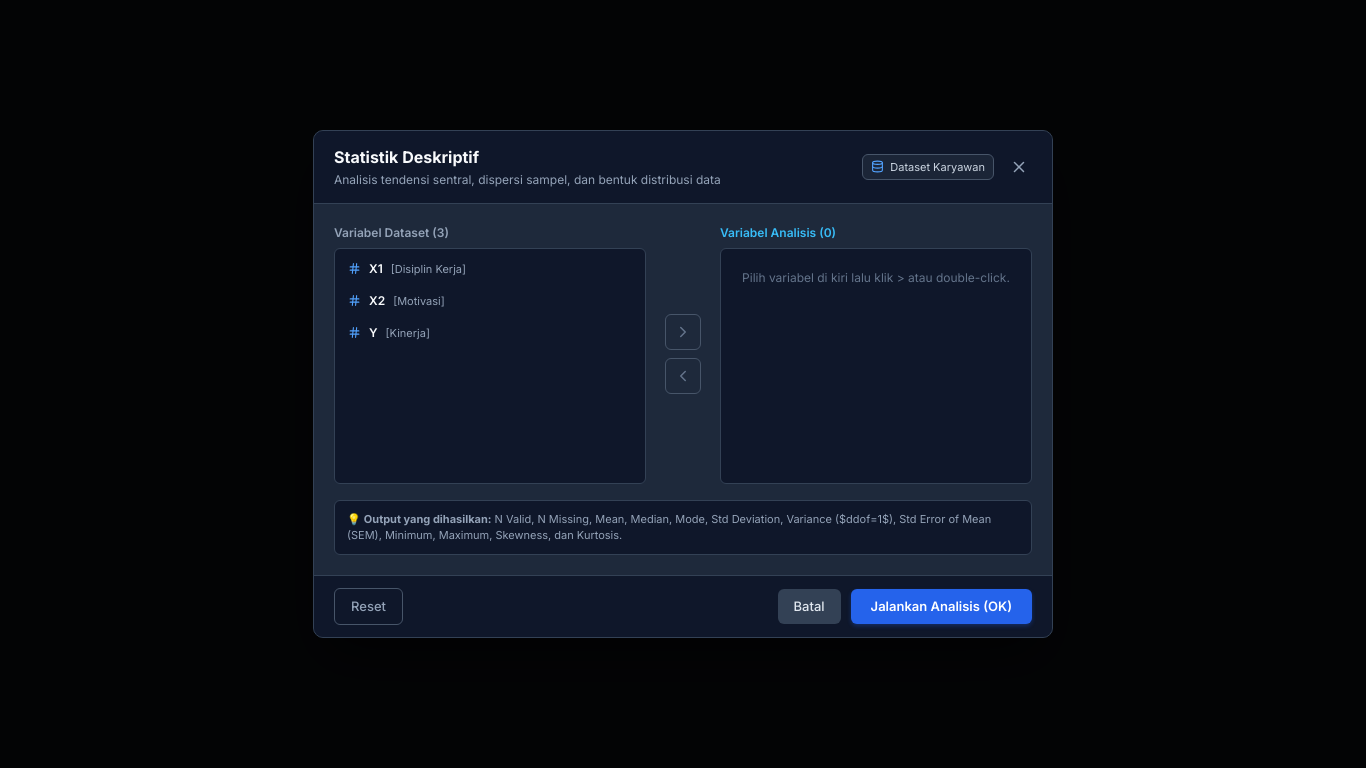
Scenario: DescriptiveDialog Component › memindahkan variabel ke target saat di-double-click dan dapat direset
Note: Double click X1 to transfer to target
Double-click the text "X1".
double_click(376, 269)  # box x1=369 y1=260 x2=383 y2=278
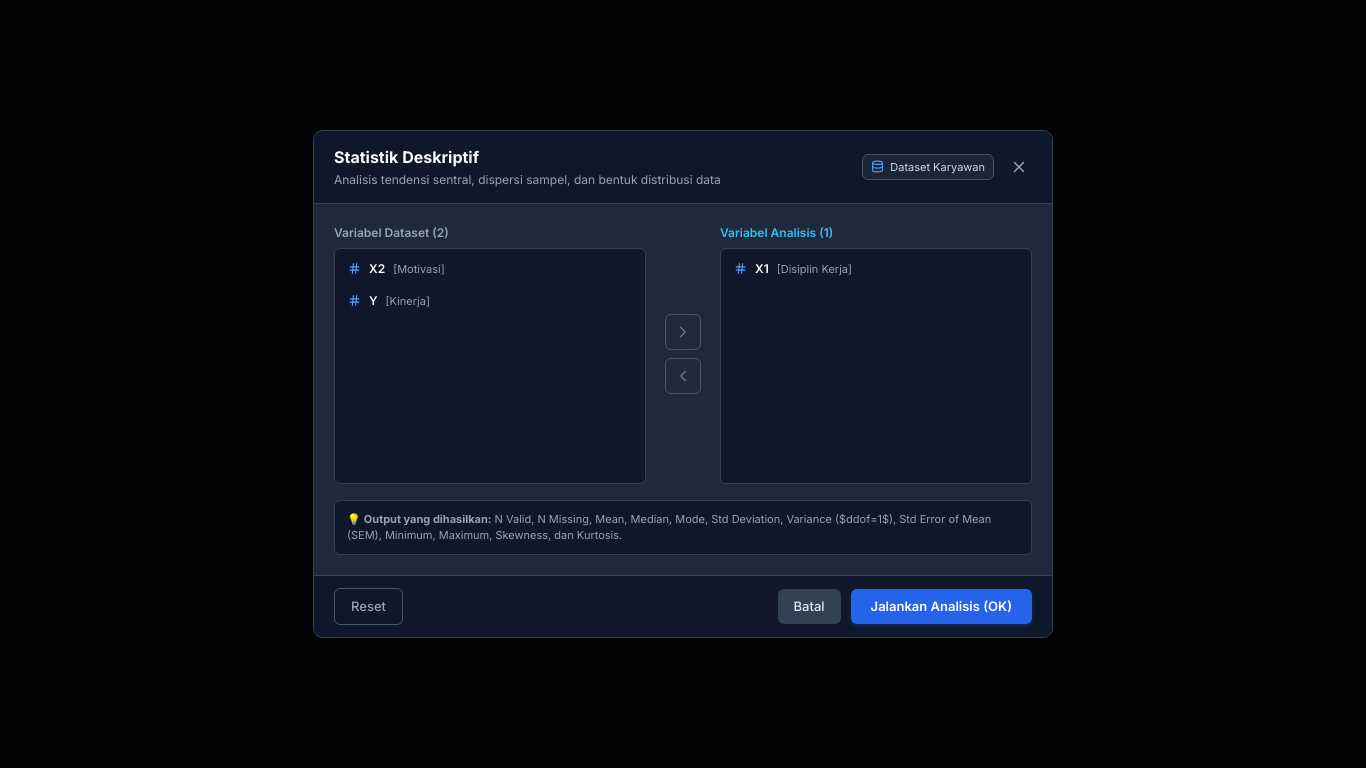
Result: the text "Variabel Analisis (1)" is shown at x1=720 y1=225 x2=833 y2=240
Note: Click Reset
Click the button "Reset".
click(368, 607)  # box x1=334 y1=588 x2=403 y2=625
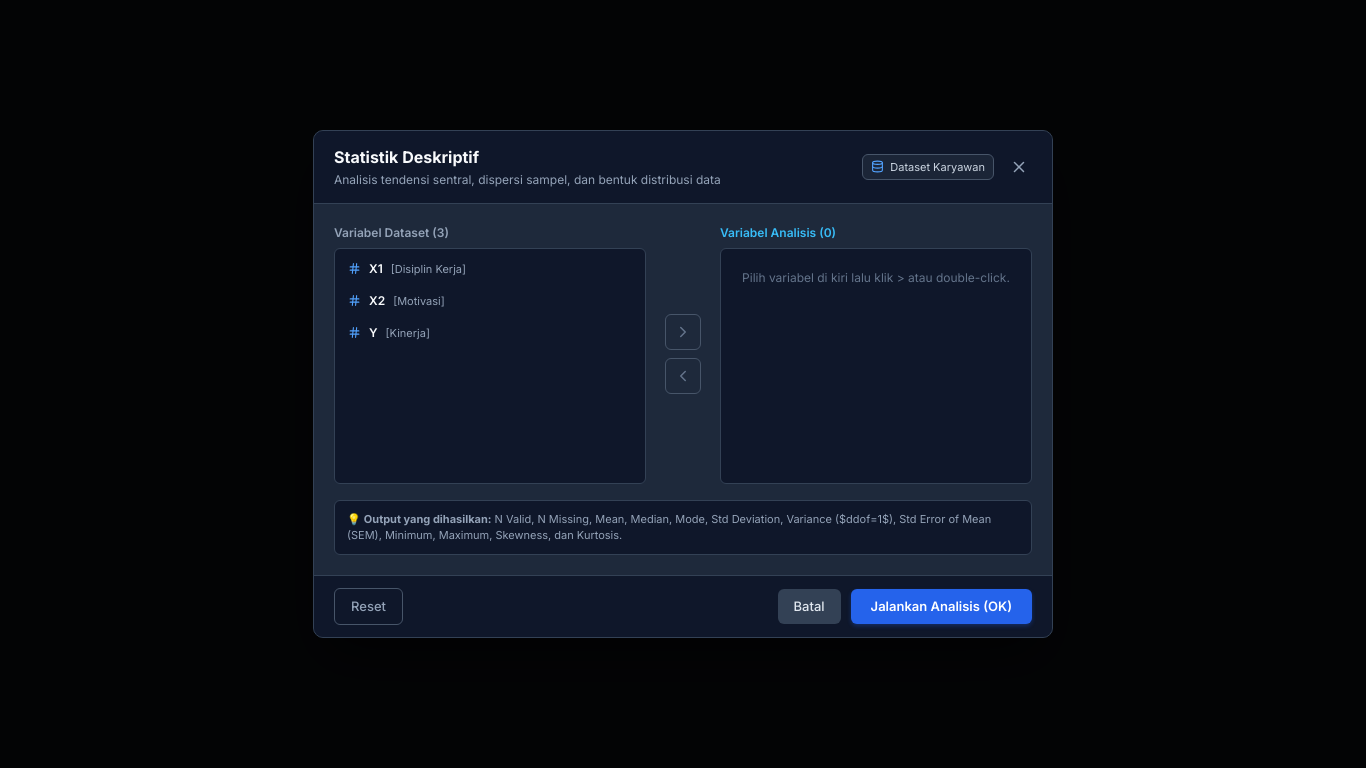
Result: the text "Variabel Analisis (0)" is shown at x1=720 y1=225 x2=836 y2=240
